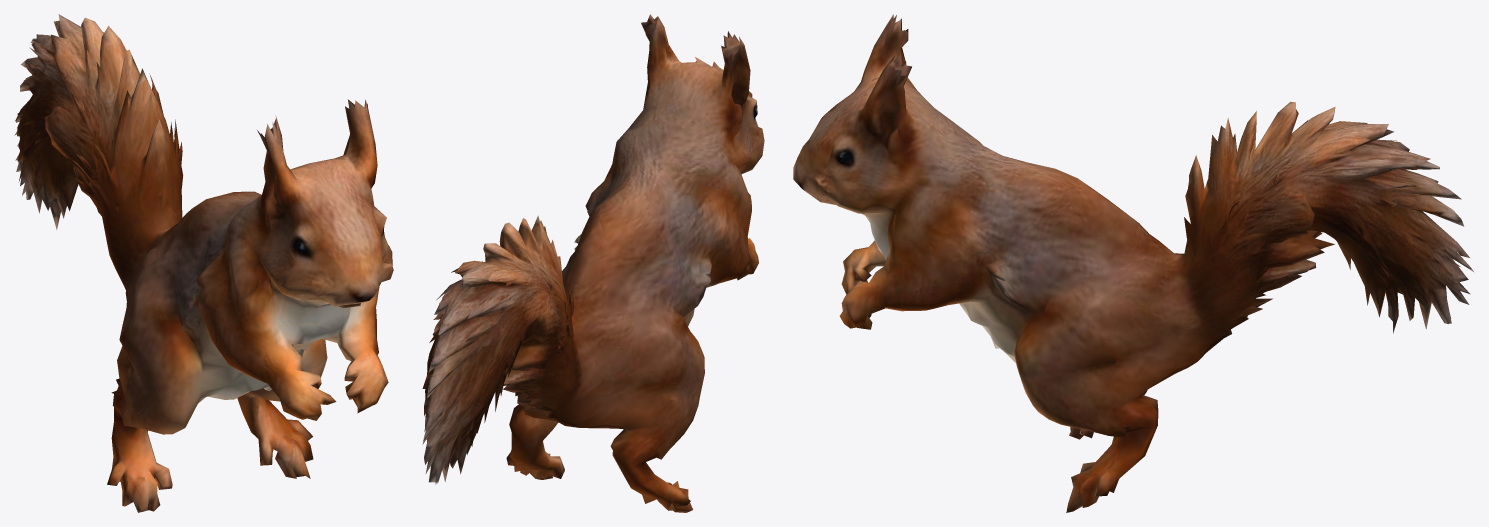
Rendered from eichhorn.glb.
3 renders of one model, left to right at view 1: azimuth 30°, elevation 25°; view 2: azimuth 150°, elevation 25°; view 3: azimuth 270°, elevation 25°, orthographic. The views are drawn at different scales.
Parts seen in each view (by area): view 1: tripo_node_8c5a0645-1b26-4897-902a-064d745e2168; view 2: tripo_node_8c5a0645-1b26-4897-902a-064d745e2168; view 3: tripo_node_8c5a0645-1b26-4897-902a-064d745e2168.
Boxes of the visible parts, box(x1,y1,x2,y2) form: tripo_node_8c5a0645-1b26-4897-902a-064d745e2168: box(14, 14, 393, 512); tripo_node_8c5a0645-1b26-4897-902a-064d745e2168: box(422, 14, 764, 512); tripo_node_8c5a0645-1b26-4897-902a-064d745e2168: box(793, 14, 1474, 512).
Size of the model in its own units: 0.3337 by 0.7143 by 1.
1 material, 1 textured.
